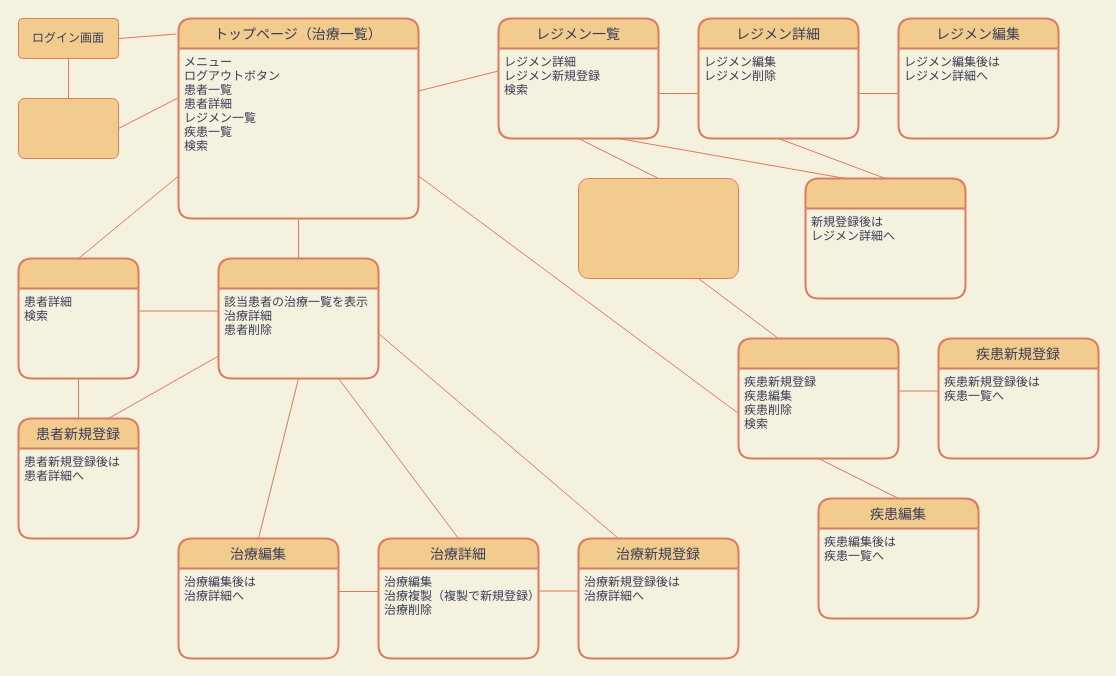
Some shapes in this 1116 by 676 pixel diagram are drawn without their labels. The shapes that lost their labels are listed below. From the top down, each one's box as (x1, y1, x2, y2) in pixels, then its label:
(18, 98, 118, 158): ユーザー 新規登録
(578, 178, 738, 278): ※レジメン画面から 関連の疾患を 選択する
(804, 177, 966, 299): レジメン新規登録
(17, 257, 139, 379): 患者一覧
(217, 257, 379, 379): 患者詳細
(737, 337, 899, 459): 疾患一覧
